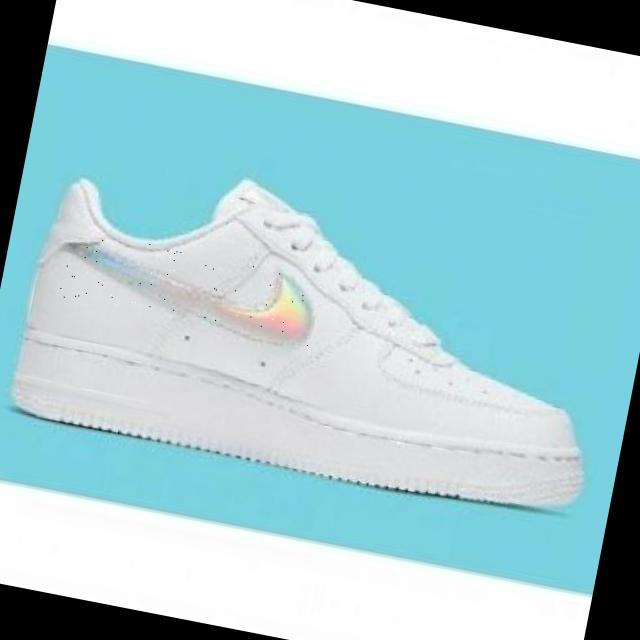Nike: (56, 229, 323, 349)
